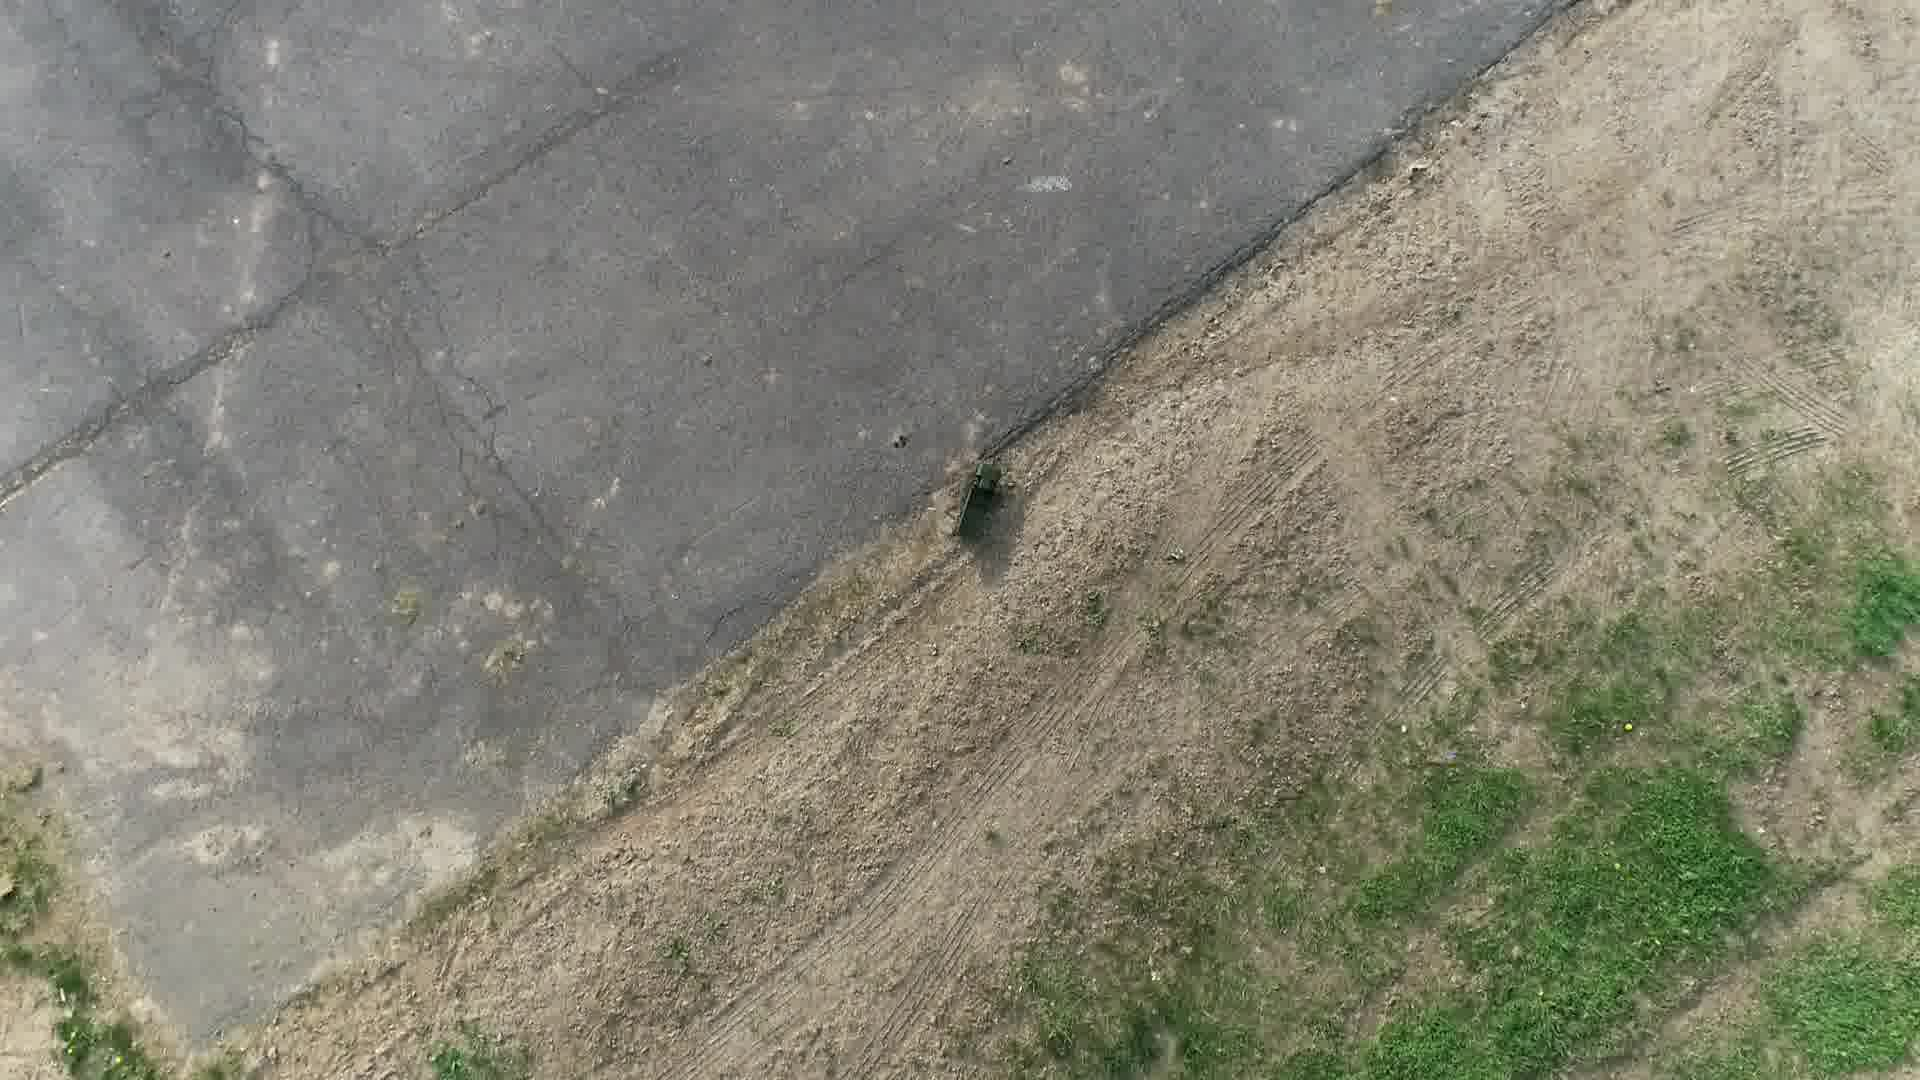transporter9: (948, 462, 1004, 545)
